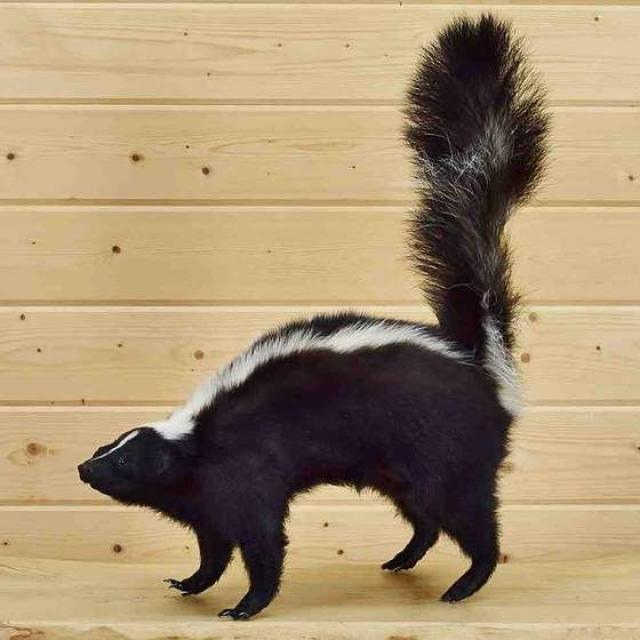Skunk: (73, 16, 576, 623)
